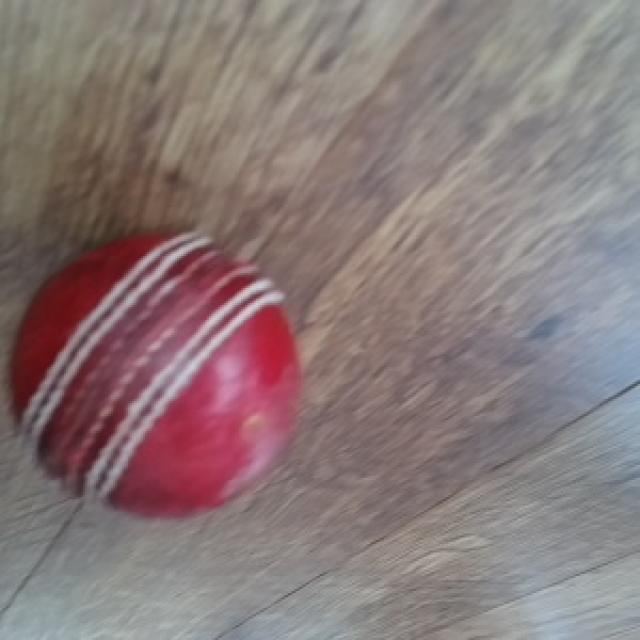ball: (6, 230, 305, 525)
